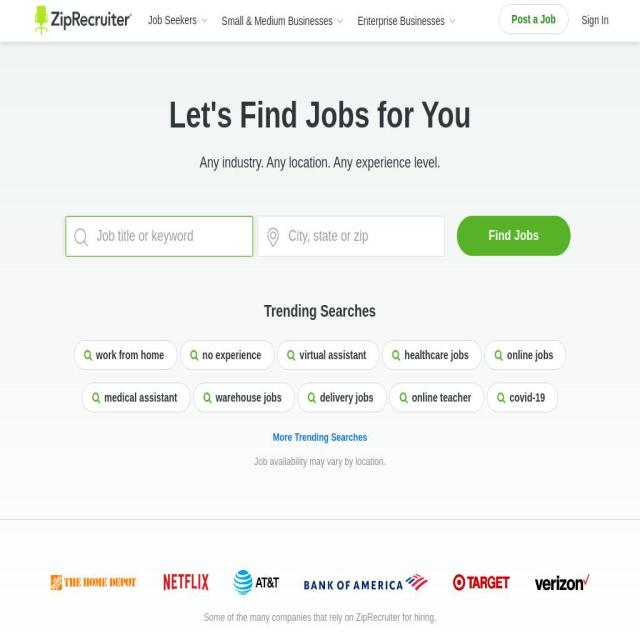button: (32, 429, 608, 445), (215, 1, 352, 42), (456, 216, 572, 256), (351, 1, 464, 42), (25, 0, 142, 38), (81, 382, 191, 412), (73, 340, 178, 370), (277, 340, 379, 370), (193, 382, 295, 412), (142, 0, 216, 41), (382, 340, 482, 370), (179, 340, 275, 370), (390, 382, 484, 412), (297, 382, 387, 412), (484, 340, 567, 370), (498, 4, 570, 35), (487, 382, 559, 412)
field: (65, 216, 253, 256), (257, 216, 445, 256)
heading: (0, 95, 640, 135), (20, 298, 620, 324)
image: (35, 5, 132, 34), (304, 574, 428, 591), (49, 574, 139, 591), (234, 570, 279, 595), (452, 574, 510, 591), (535, 574, 591, 591), (163, 574, 209, 591)
link: (34, 8, 82, 22), (582, 13, 610, 27)
text: (0, 152, 640, 174), (12, 608, 628, 625), (215, 1, 352, 42), (351, 1, 464, 42), (254, 455, 386, 467), (7, 8, 35, 22)
